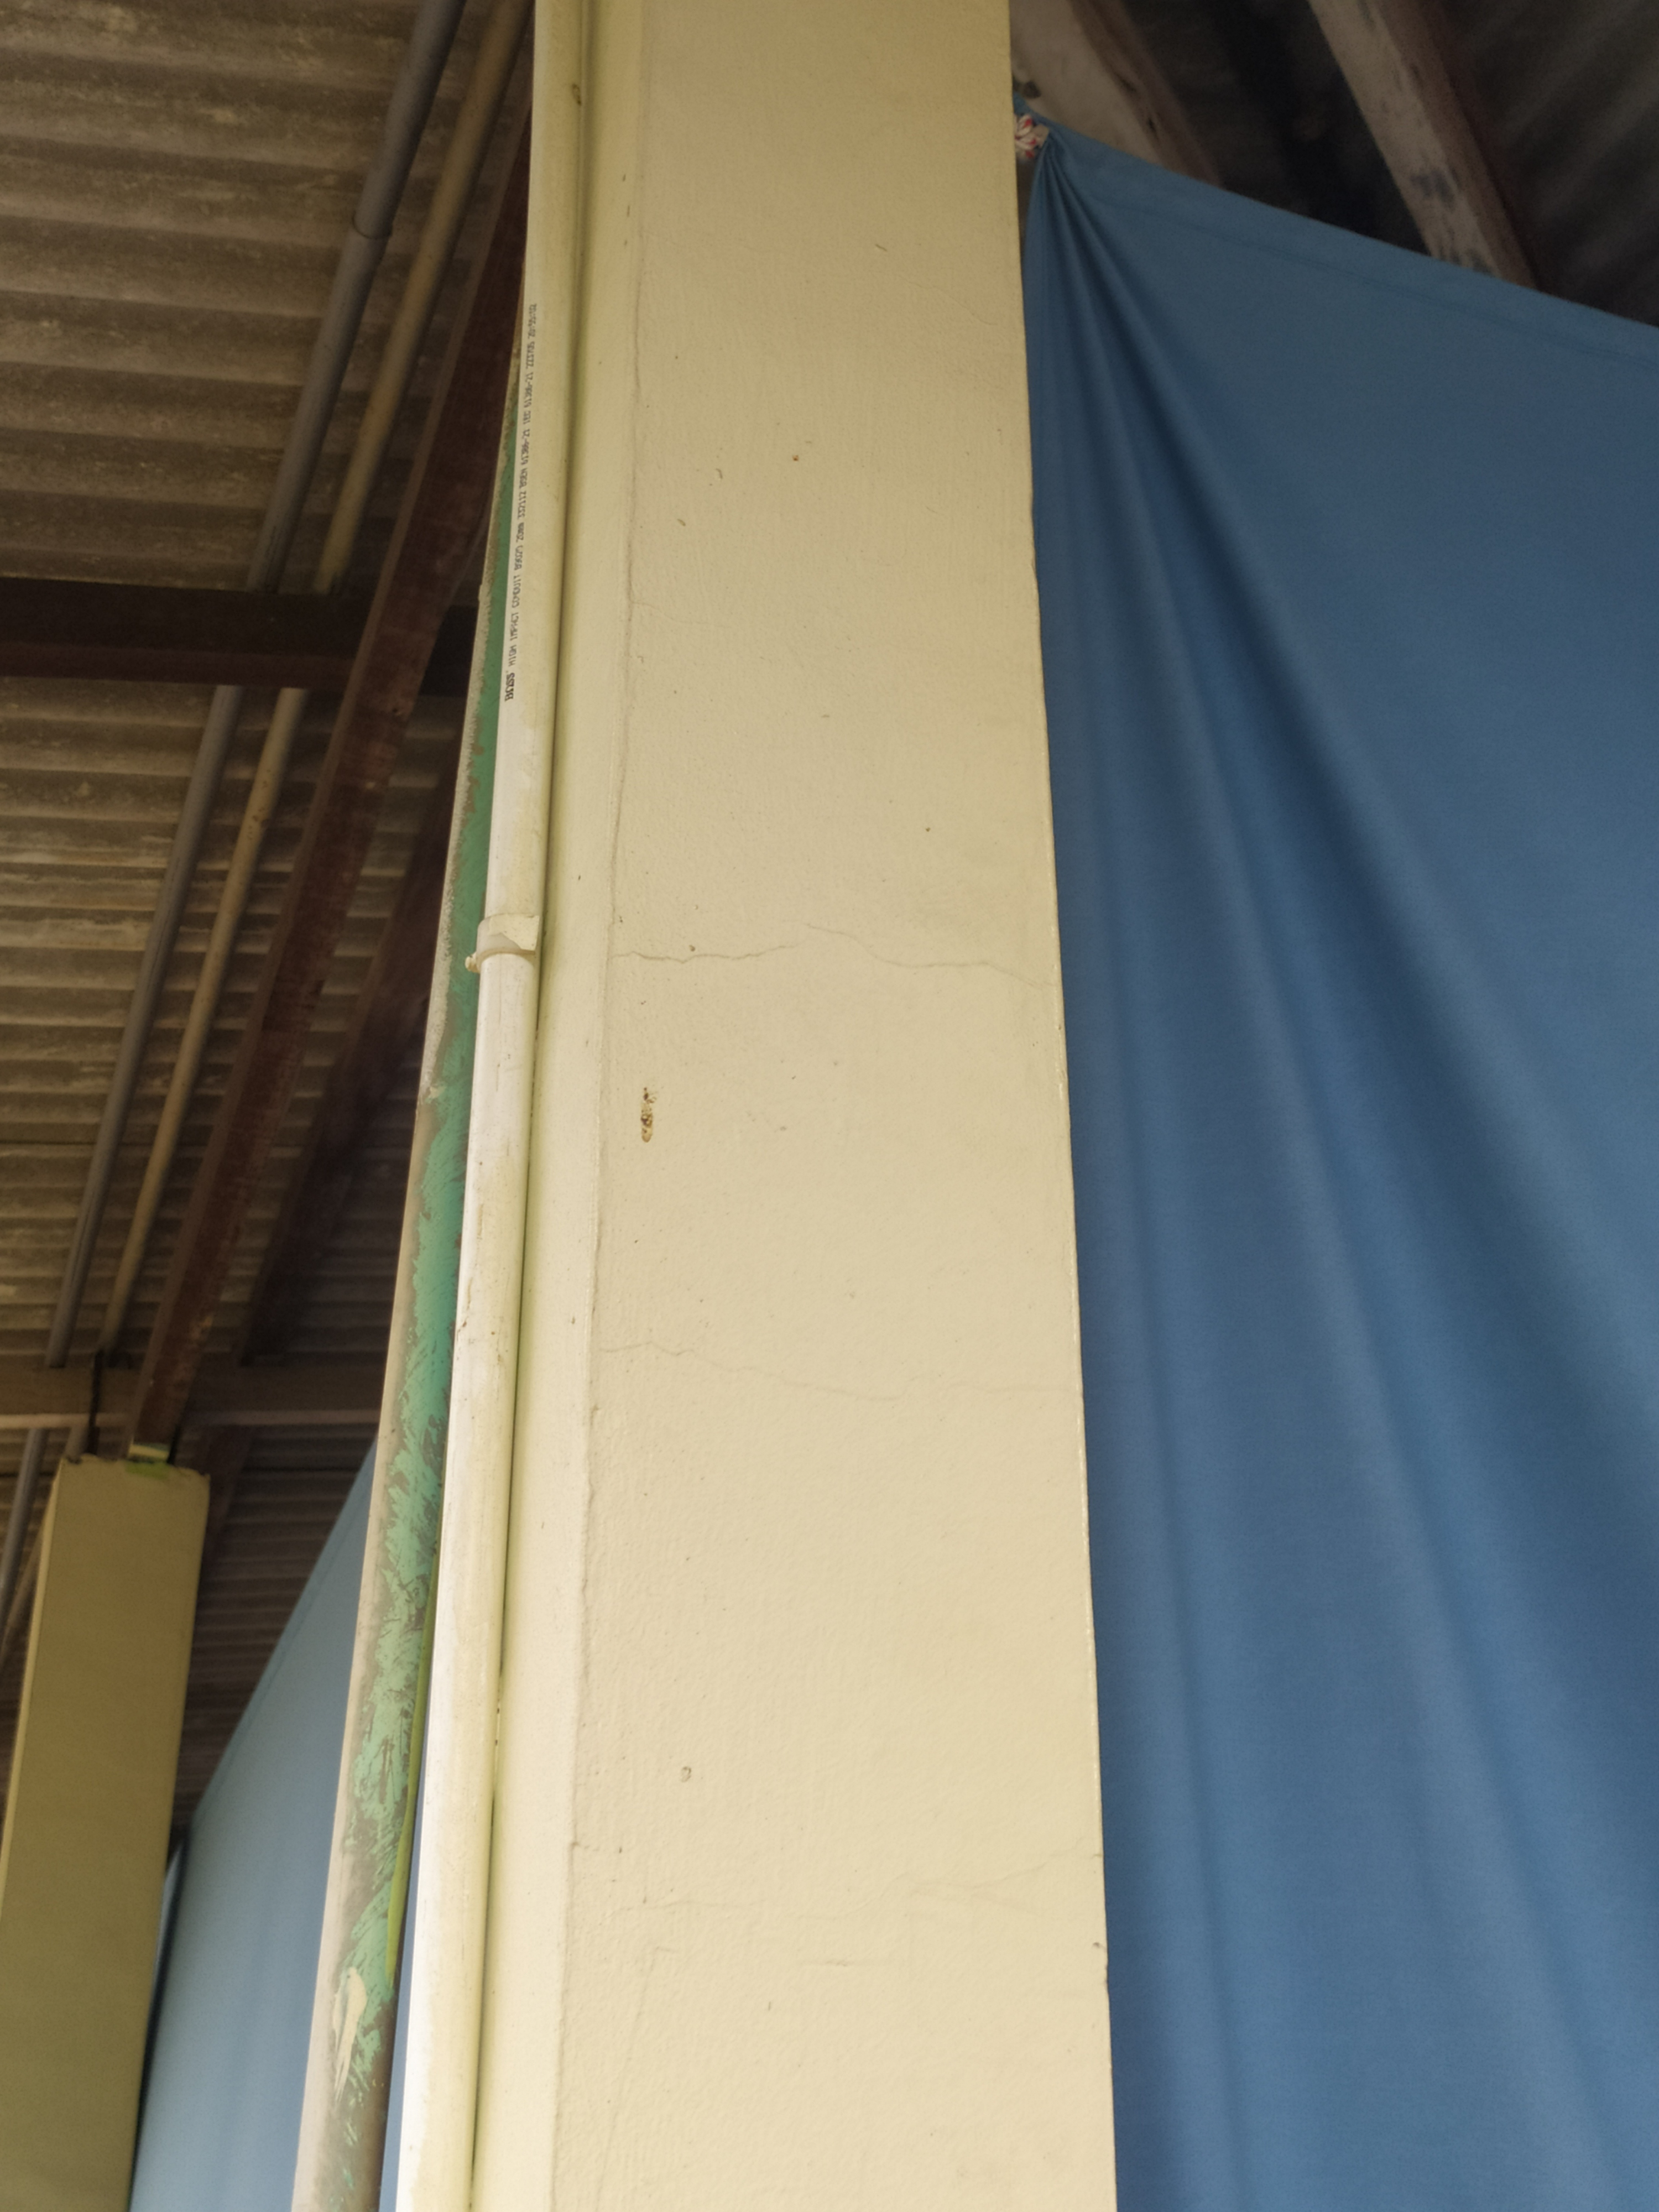crack: (606, 921, 1063, 998)
